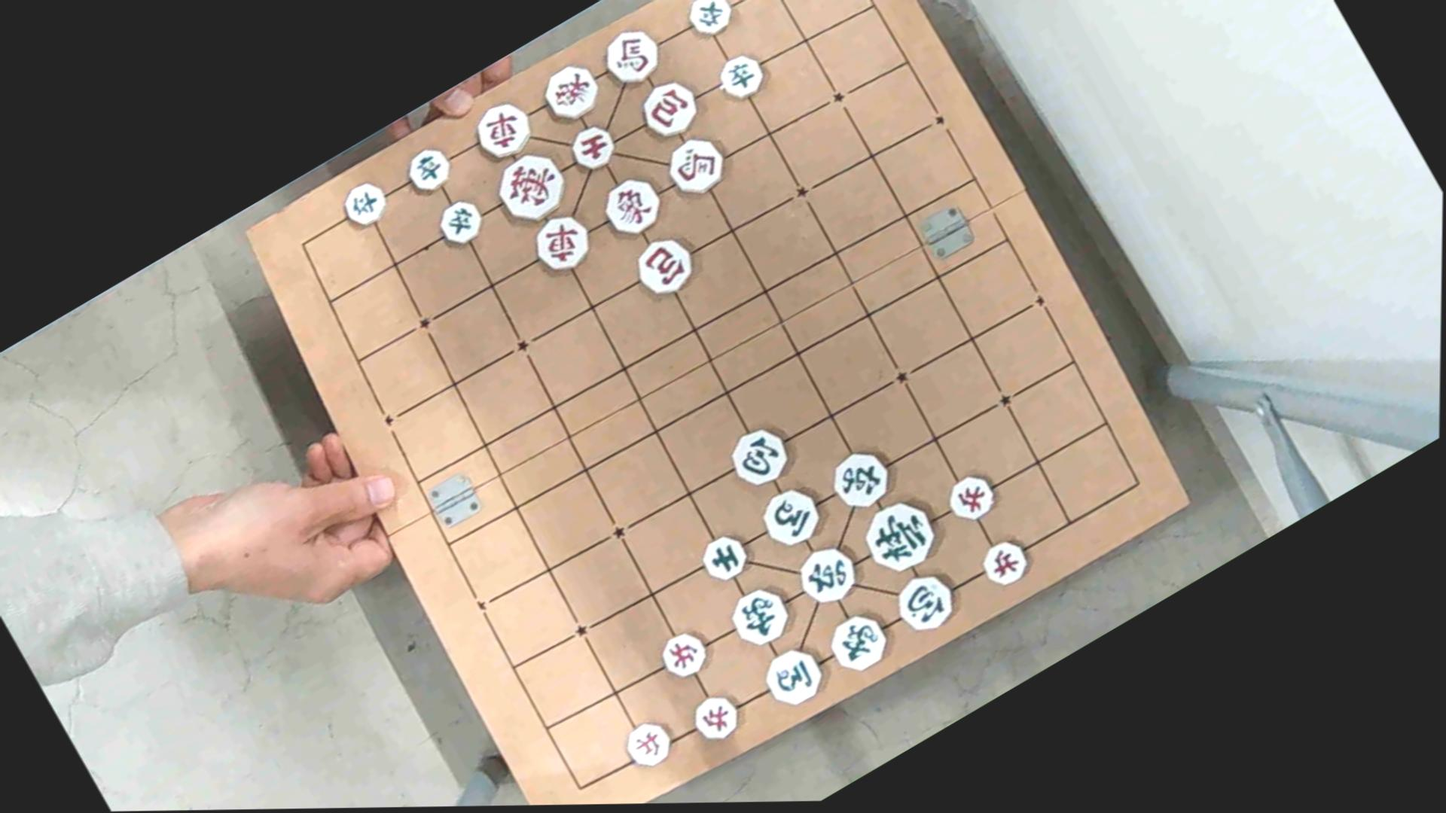cha_green: (789, 538, 865, 612), (822, 443, 896, 516)
cha_red: (524, 206, 596, 276), (467, 96, 538, 166)
jol_green: (712, 49, 770, 105), (336, 175, 393, 231), (432, 196, 488, 250), (401, 145, 456, 198), (682, 0, 738, 44)
jol_red: (941, 468, 1002, 527), (685, 685, 746, 744), (654, 623, 715, 681), (621, 714, 680, 772), (974, 532, 1033, 590)
ma_green: (756, 638, 831, 712), (755, 479, 831, 552)
ma_red: (660, 129, 732, 199), (596, 20, 667, 90)
po_green: (889, 563, 965, 636), (725, 421, 798, 492)
po_red: (630, 231, 704, 303), (636, 74, 708, 144)
sa_green: (694, 528, 755, 586)
sa_red: (564, 120, 621, 175)
sang_green: (821, 606, 898, 681), (725, 580, 799, 653)
sang_red: (599, 172, 673, 243), (537, 58, 609, 128)
wang_green: (856, 490, 949, 583)
wang_red: (487, 144, 575, 229)
